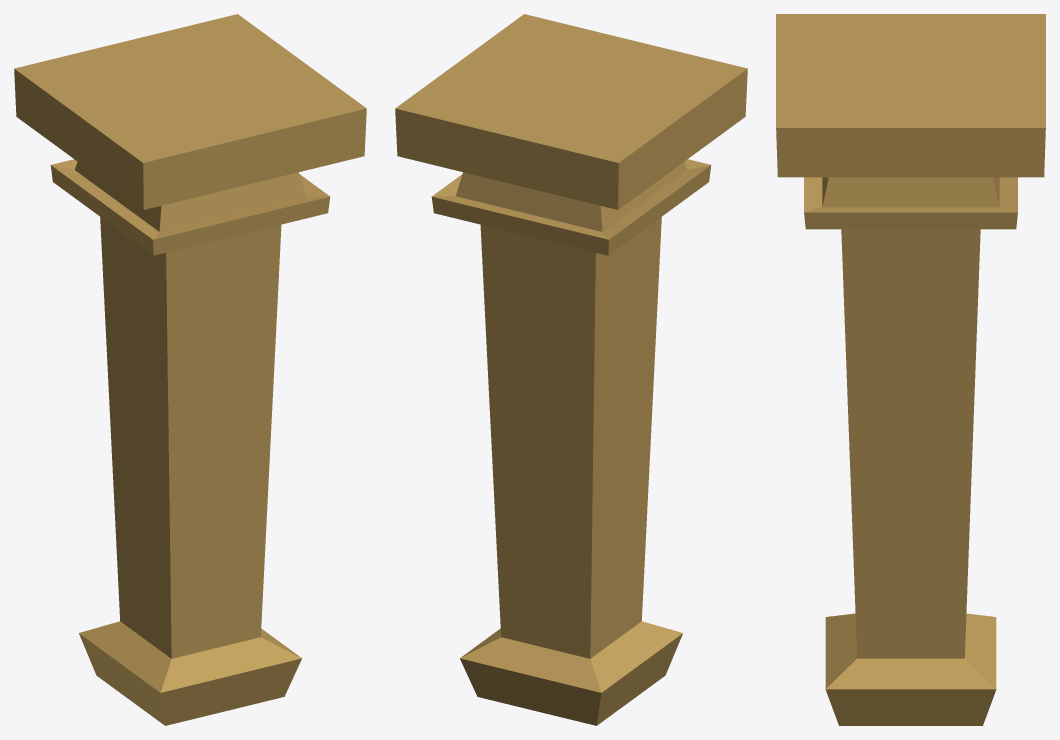
The model's file is Props.fbx_Window.fbx_Column.fbx.
3 renders of one model, left to right at view 1: azimuth 30°, elevation 25°; view 2: azimuth 150°, elevation 25°; view 3: azimuth 270°, elevation 25°, orthographic. The views are drawn at different scales.
Visible parts, largest first — view 1: Column; view 2: Column; view 3: Column.
Boxes of the visible parts, x1,y1,x2,y2 form: Column: (14, 14, 366, 725); Column: (395, 14, 747, 725); Column: (776, 14, 1045, 725).
Size of the model in its own units: 1.16 by 2.97 by 1.16.
